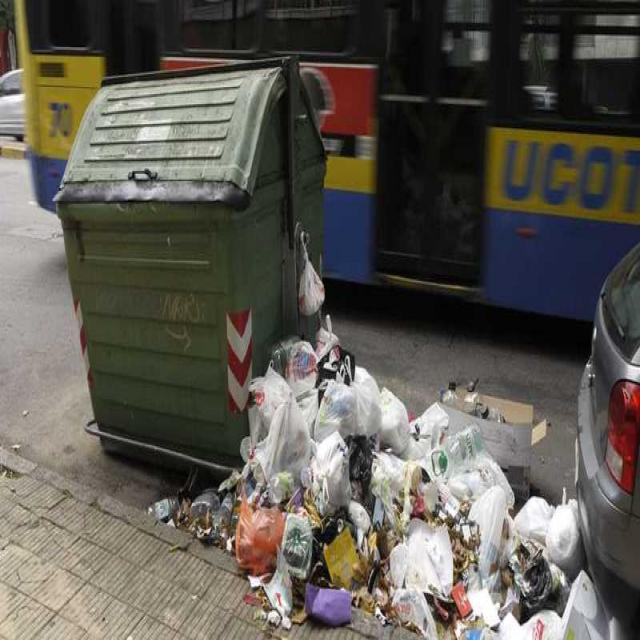garbage: (150, 329, 626, 637), (296, 228, 337, 334)
